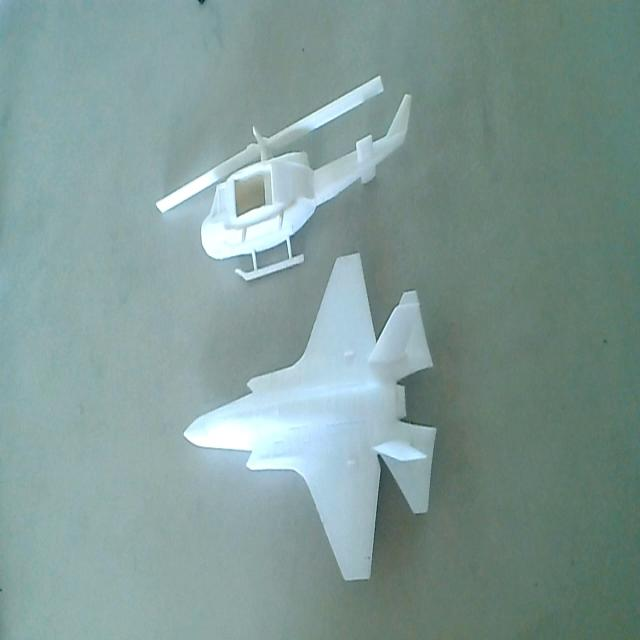Helicopter: (157, 75, 415, 286)
Jet: (180, 252, 440, 587)
